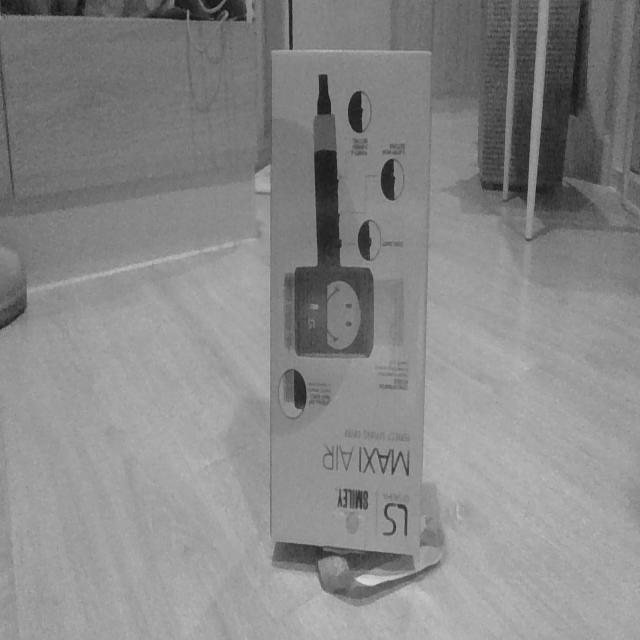Dryer: (266, 44, 434, 568)
